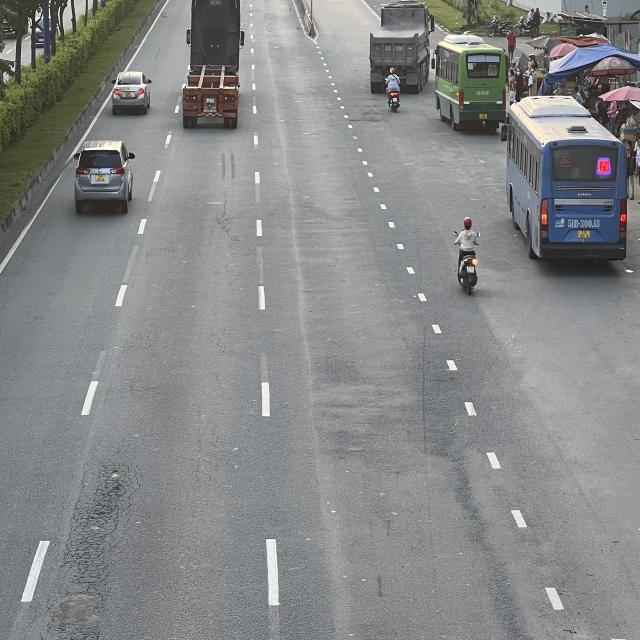car: (72, 142, 134, 214), (112, 69, 154, 116)
coach: (505, 99, 631, 266), (430, 34, 505, 128)
container: (183, 2, 245, 132), (368, 1, 430, 92)
